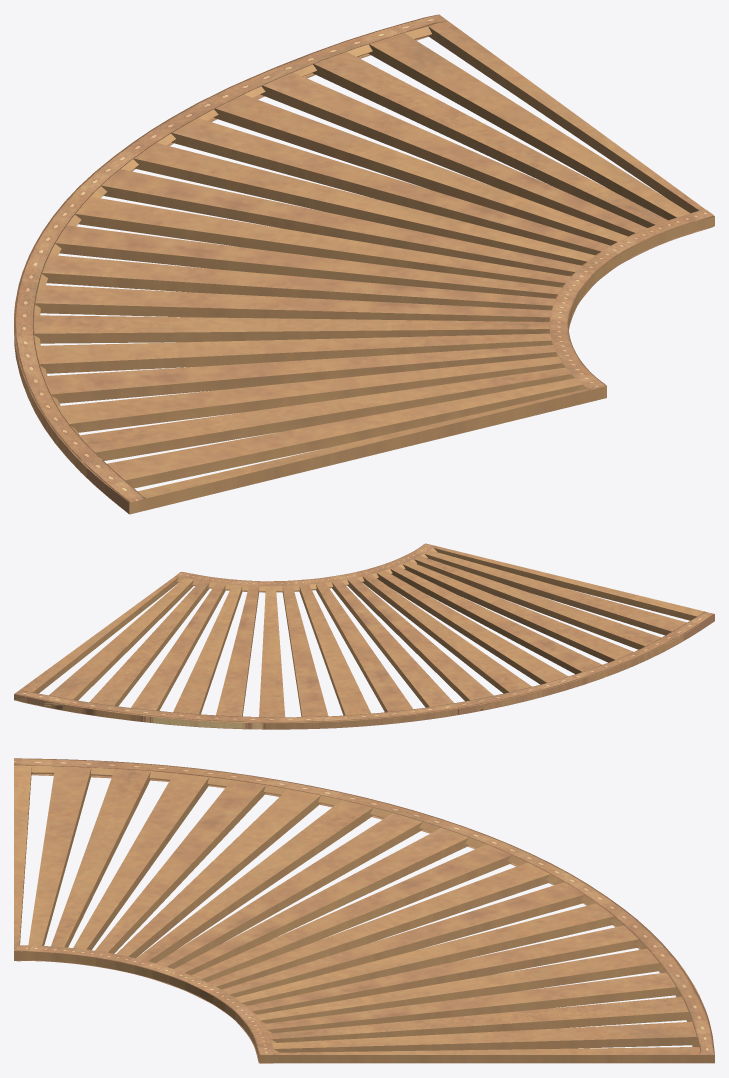
Rendered from Small_Floorgrate_Corner_A.fbx.
The picture shows the model from 3 angles, top to bottom: view 1: azimuth 30°, elevation 25°; view 2: azimuth 150°, elevation 25°; view 3: azimuth 270°, elevation 25°; orthographic projection. The views are drawn at different scales.
Visible parts, largest first — view 1: Small_Floorgrate_Corner_A; view 2: Small_Floorgrate_Corner_A; view 3: Small_Floorgrate_Corner_A.
Boxes of the visible parts, x1,y1,x2,y2 form: Small_Floorgrate_Corner_A: (14,14,714,514); Small_Floorgrate_Corner_A: (14,543,714,729); Small_Floorgrate_Corner_A: (14,758,714,1063).
Bounding box in the file's own units: 2.96 × 0.0483 × 2.97.
